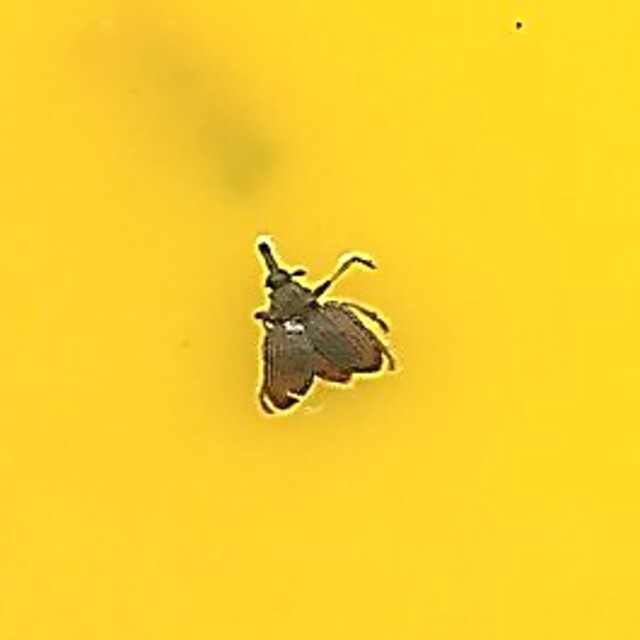Coleoptera: (242, 226, 398, 414)
